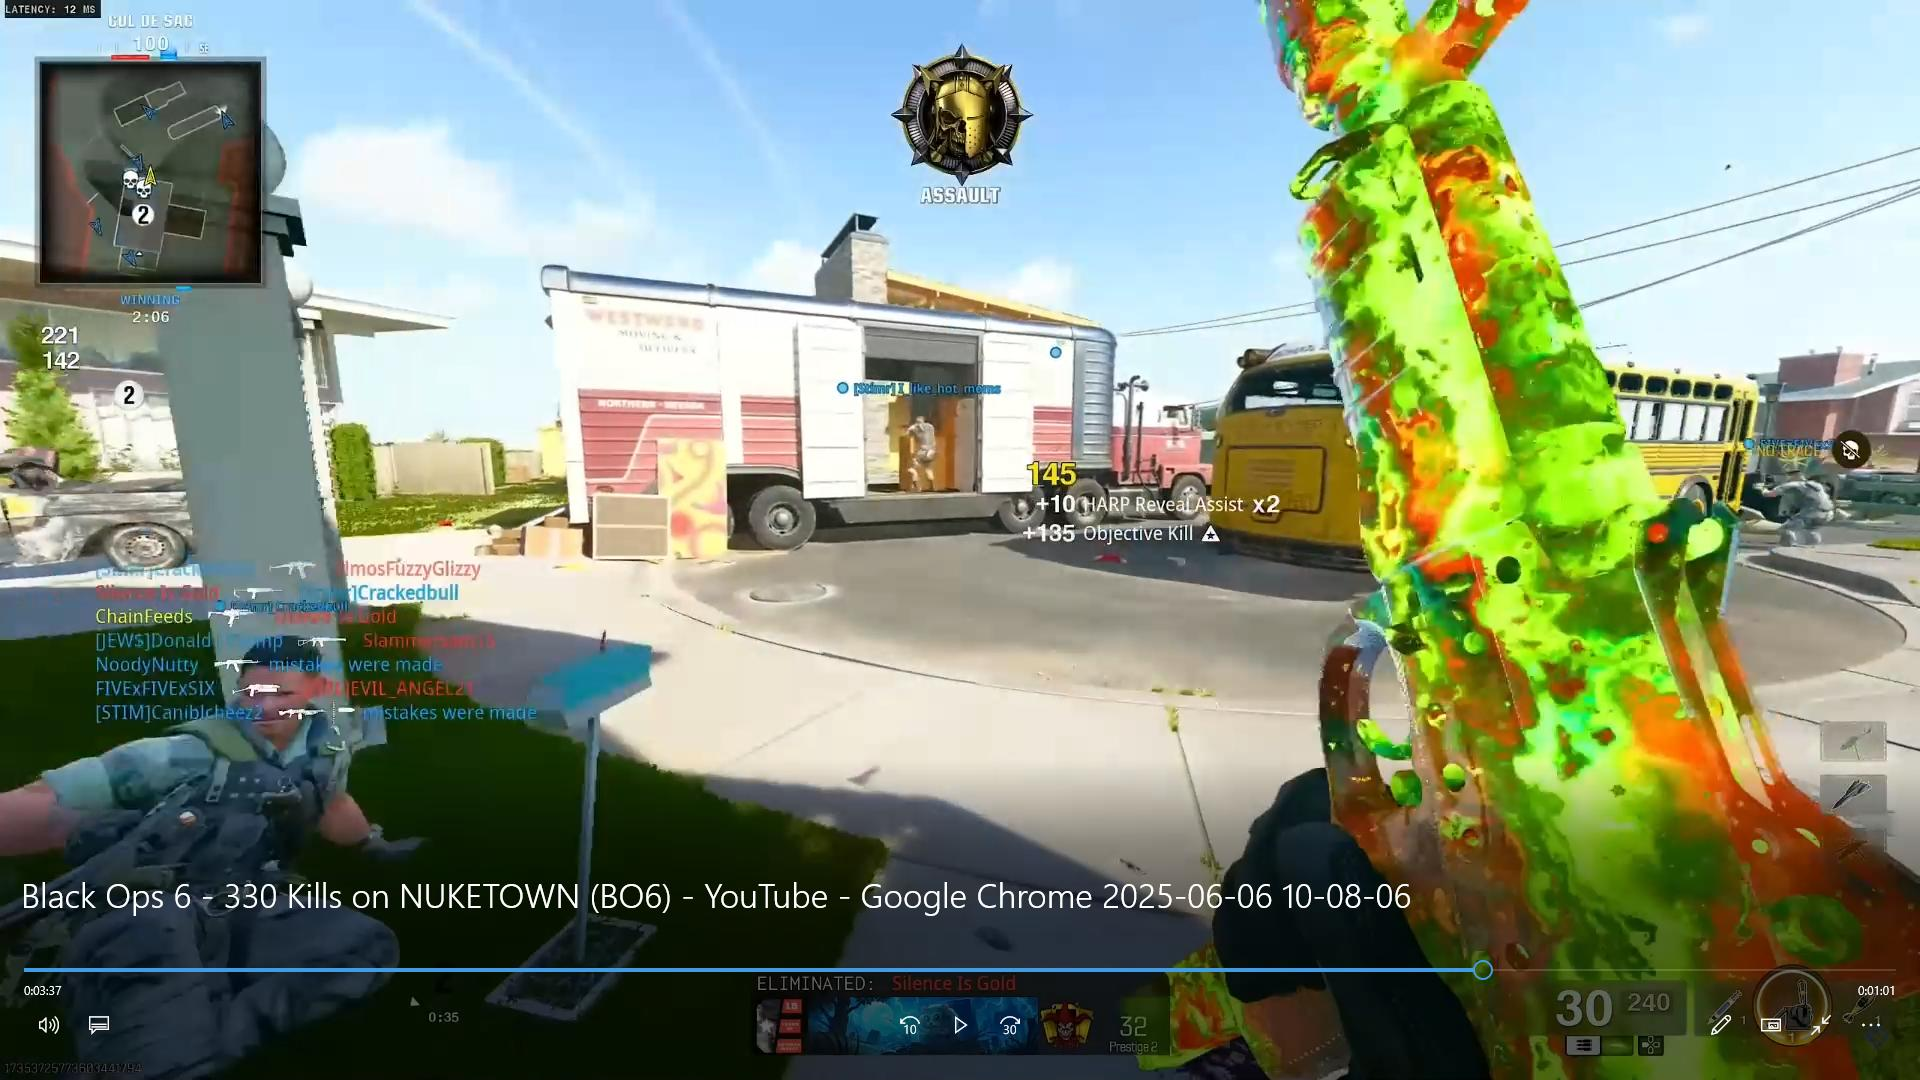Enemy: (897, 410, 945, 493)
